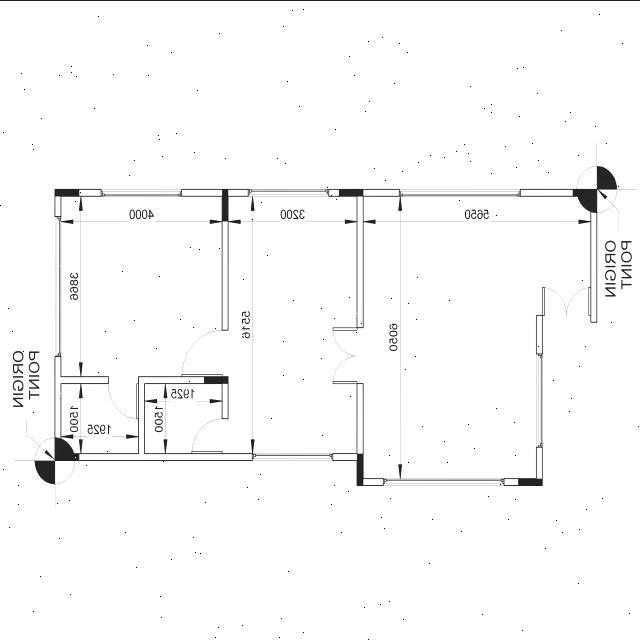Column: (356, 453, 364, 485), (54, 188, 80, 196), (54, 452, 80, 460), (222, 188, 228, 220), (339, 188, 363, 196), (573, 188, 597, 196), (518, 477, 542, 485), (204, 375, 228, 383), (590, 196, 598, 212), (54, 436, 61, 452)
Door: (182, 329, 228, 375), (108, 375, 139, 418), (192, 417, 228, 452)
Double-Door: (332, 326, 363, 383), (542, 286, 591, 314)
Window: (54, 215, 61, 356), (399, 188, 521, 196), (382, 477, 504, 485), (536, 352, 543, 447), (252, 452, 334, 460), (248, 188, 330, 196), (100, 188, 182, 196)
